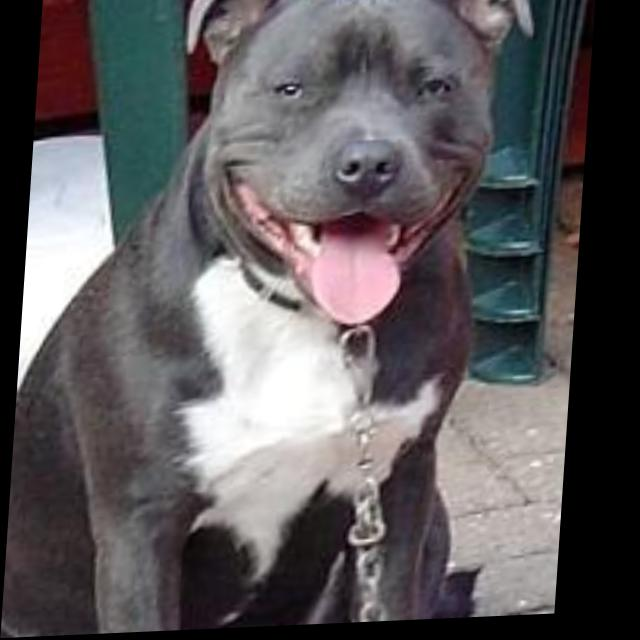staffford: (10, 1, 538, 639)
